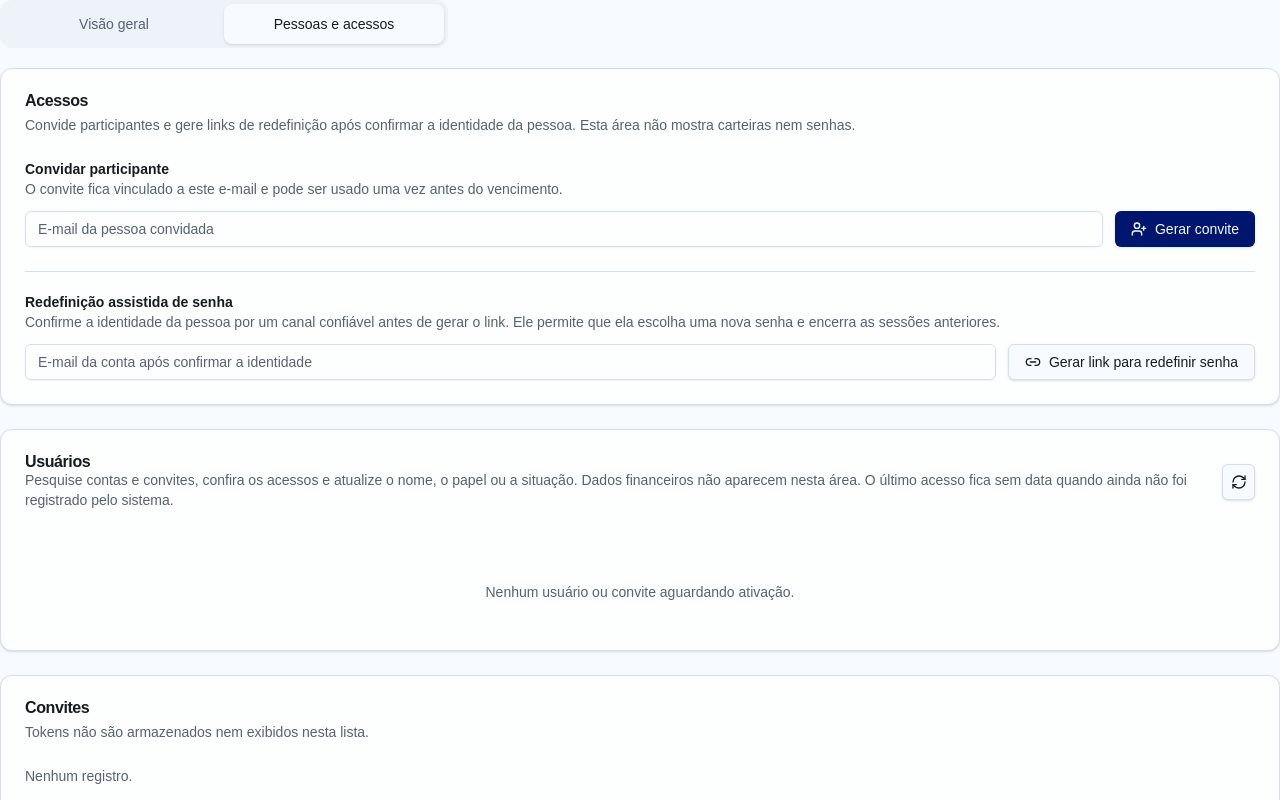
Scenario: AdminUsersClient › issues an invitation and exposes its individual link only in the current page state
Type "person@example.com" into the field labelled "E-mail da pessoa convidada" at (564,229), box x1=25 y1=211 x2=1103 y2=247
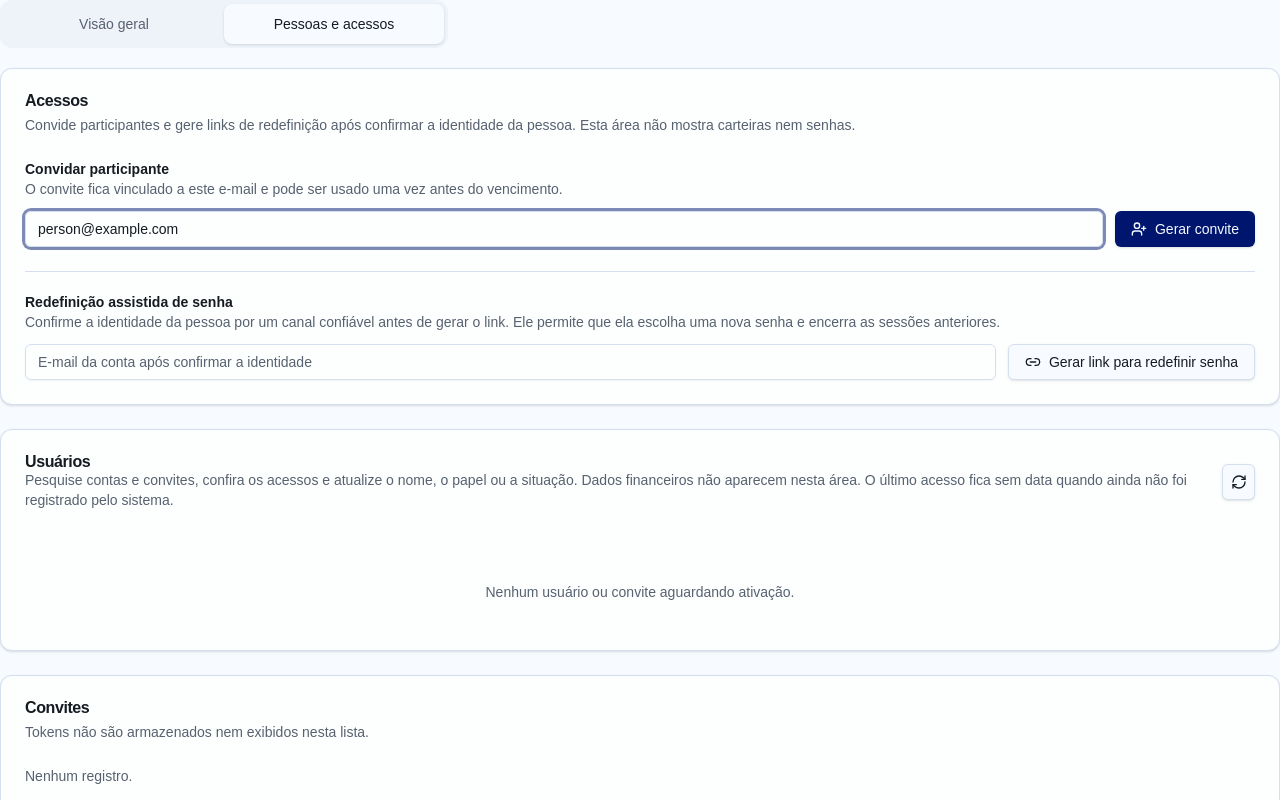
Click the button "Gerar convite" at (1185,229), box x1=1115 y1=211 x2=1255 y2=247
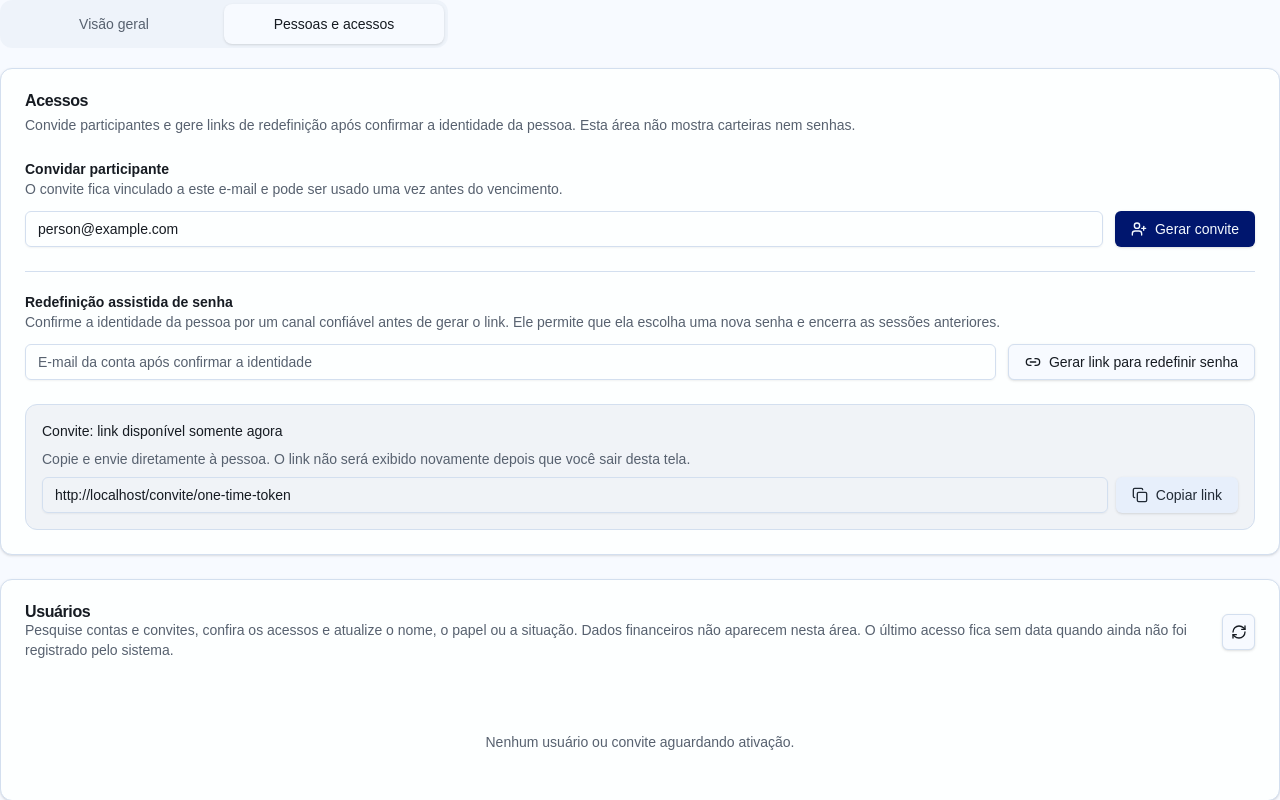
Expected: the field showing "convite/one-time-token" is shown, x1=42 y1=477 x2=1108 y2=513
